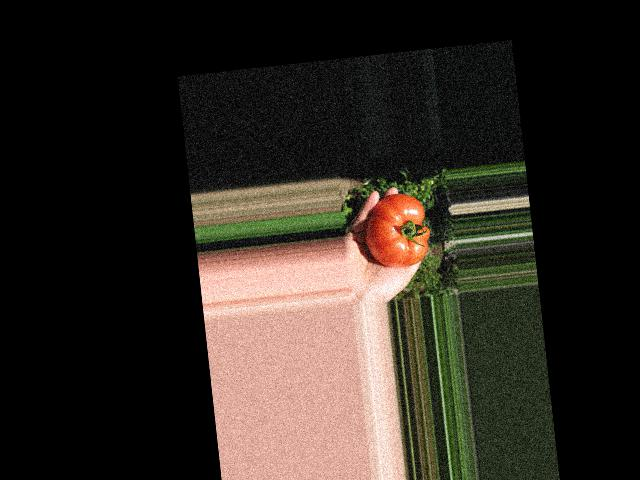tomato: (361, 190, 432, 270)
